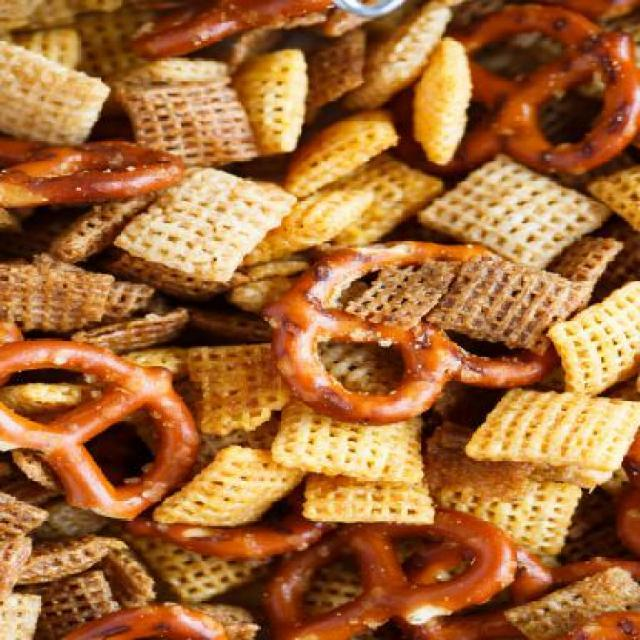Salatini packaged: (8, 7, 628, 636)
